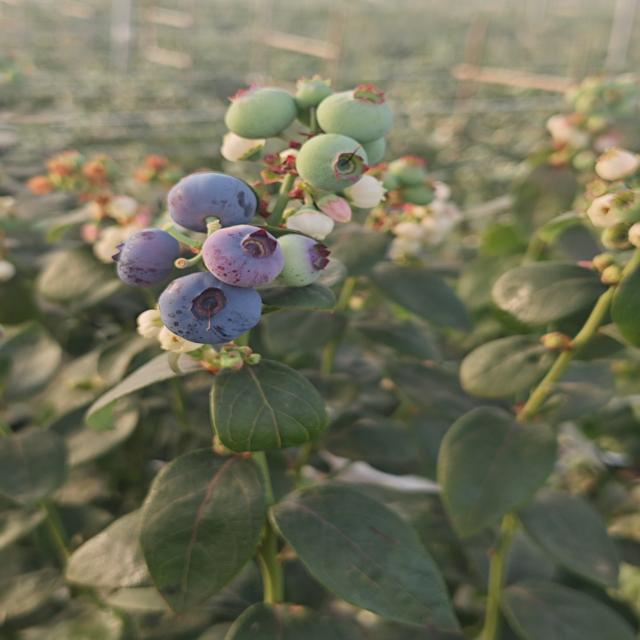ripe: (157, 270, 263, 346), (160, 174, 261, 230), (113, 225, 188, 296), (205, 225, 288, 285)
